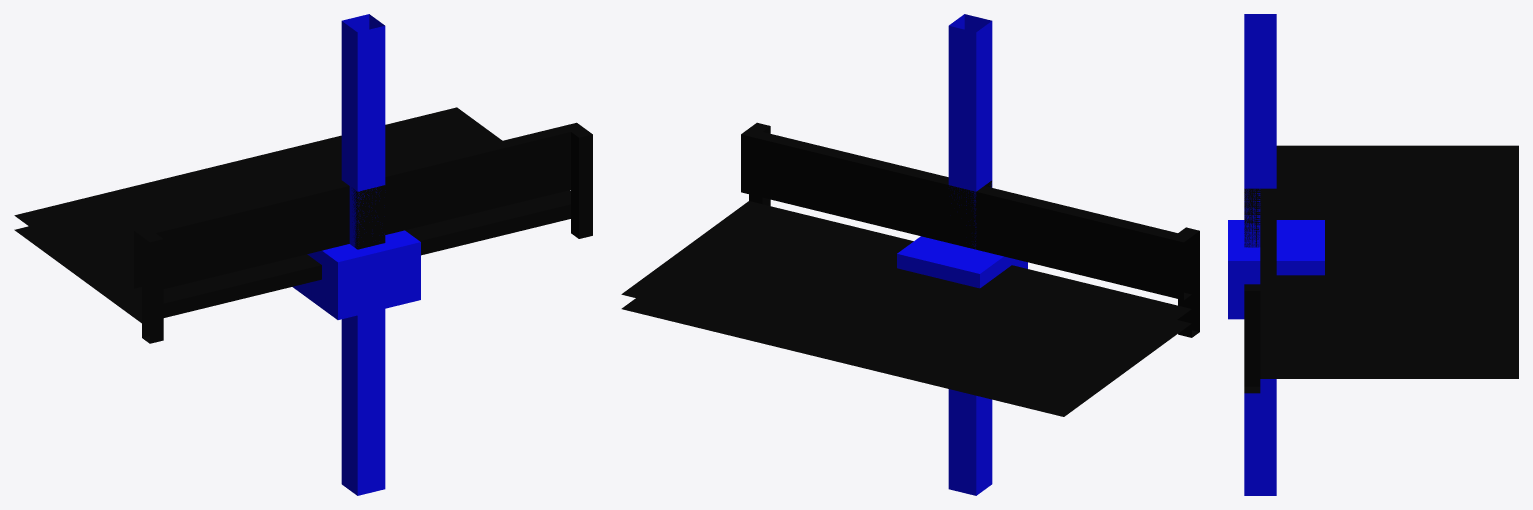
File: BigStrut_P_E_E_E_P_E_E_E_BigStrut.fbx
3 views of the same model, side by side, from view 1: azimuth 30°, elevation 25°; view 2: azimuth 150°, elevation 25°; view 3: azimuth 270°, elevation 25° (orthographic).
Visible parts, largest first — view 1: BigStrut_P_E_E_E_P_E_E_E_BigStrut; view 2: BigStrut_P_E_E_E_P_E_E_E_BigStrut; view 3: BigStrut_P_E_E_E_P_E_E_E_BigStrut.
Boxes of the visible parts, box(x1,y1,x2,y2) form: BigStrut_P_E_E_E_P_E_E_E_BigStrut: box(14, 14, 592, 495); BigStrut_P_E_E_E_P_E_E_E_BigStrut: box(621, 14, 1199, 495); BigStrut_P_E_E_E_P_E_E_E_BigStrut: box(1228, 14, 1518, 495).
Size of the model in its own units: 100 by 100 by 56.25.
